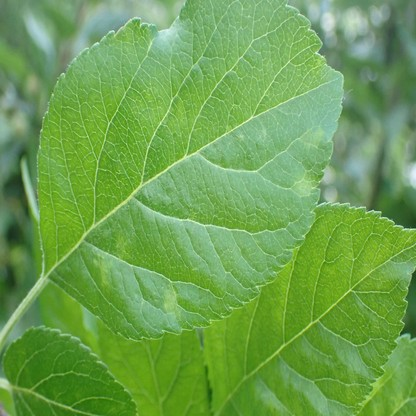scab: (293, 168, 315, 199), (92, 253, 110, 289), (303, 128, 323, 151), (163, 285, 179, 313), (115, 236, 129, 258)
